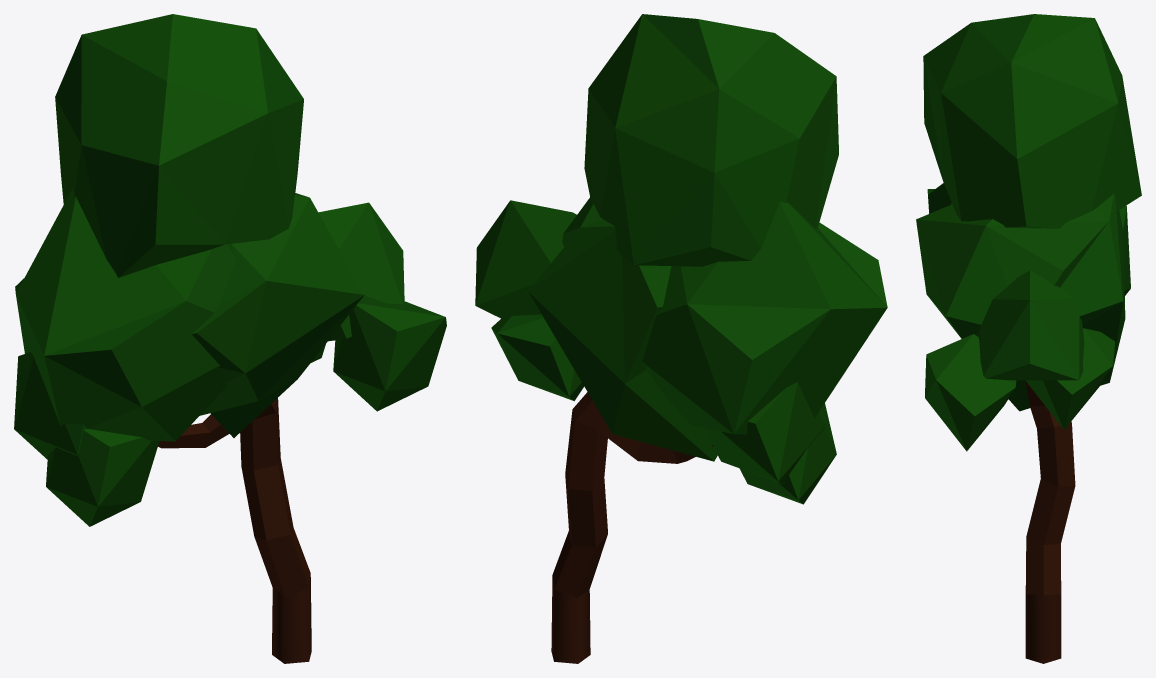
File: tree_4.FBX
3 views of the same model, side by side, from view 1: azimuth 30°, elevation 25°; view 2: azimuth 150°, elevation 25°; view 3: azimuth 270°, elevation 25° (orthographic). The views are drawn at different scales.
Parts seen in each view (by area): view 1: Cylinder001; view 2: Cylinder001; view 3: Cylinder001.
Part boxes in pixels (x1,y1,x2,y2): Cylinder001: (14,14,446,663); Cylinder001: (475,14,887,663); Cylinder001: (916,14,1141,663).
Size of the model in its own units: 119 by 191 by 66.55.
